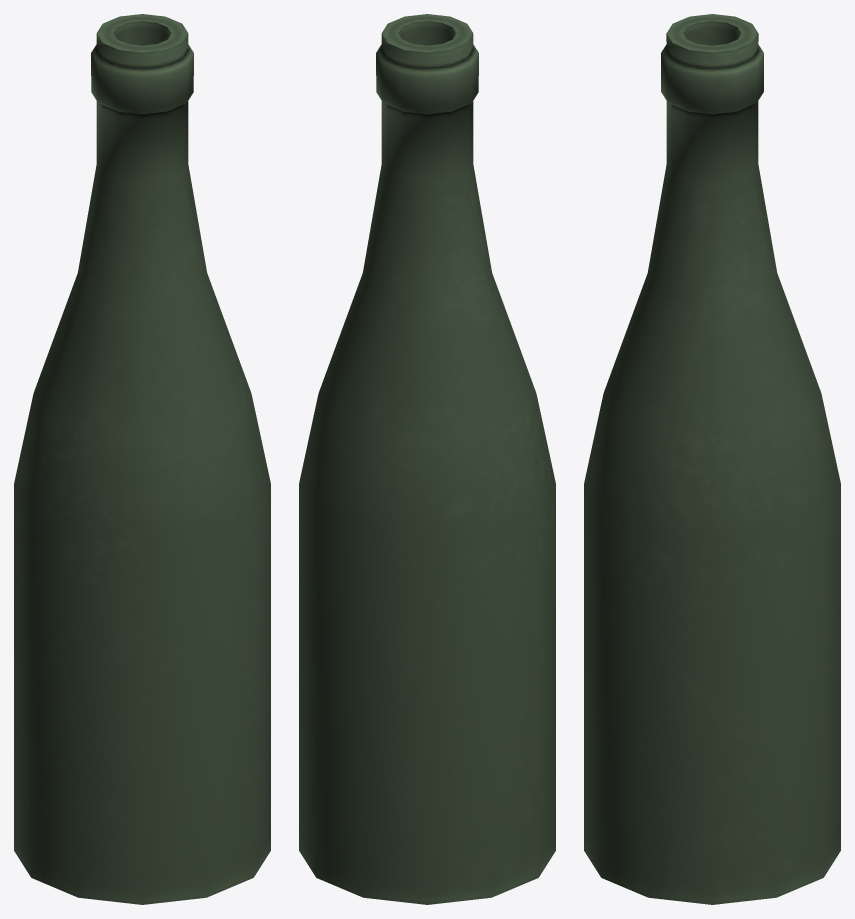
Rendered from LOD0_smallBottle.fbx.
The picture shows the model from 3 angles, left to right: view 1: azimuth 30°, elevation 25°; view 2: azimuth 150°, elevation 25°; view 3: azimuth 270°, elevation 25°; orthographic projection.
Visible parts, largest first — view 1: LOD0_smallBottle; view 2: LOD0_smallBottle; view 3: LOD0_smallBottle.
Boxes of the visible parts, x1=… form: LOD0_smallBottle: x1=14, y1=14, x2=270, y2=904; LOD0_smallBottle: x1=299, y1=14, x2=555, y2=904; LOD0_smallBottle: x1=584, y1=14, x2=840, y2=904.
Bounding box in the file's own units: 0.0929 × 0.3261 × 0.0929.
